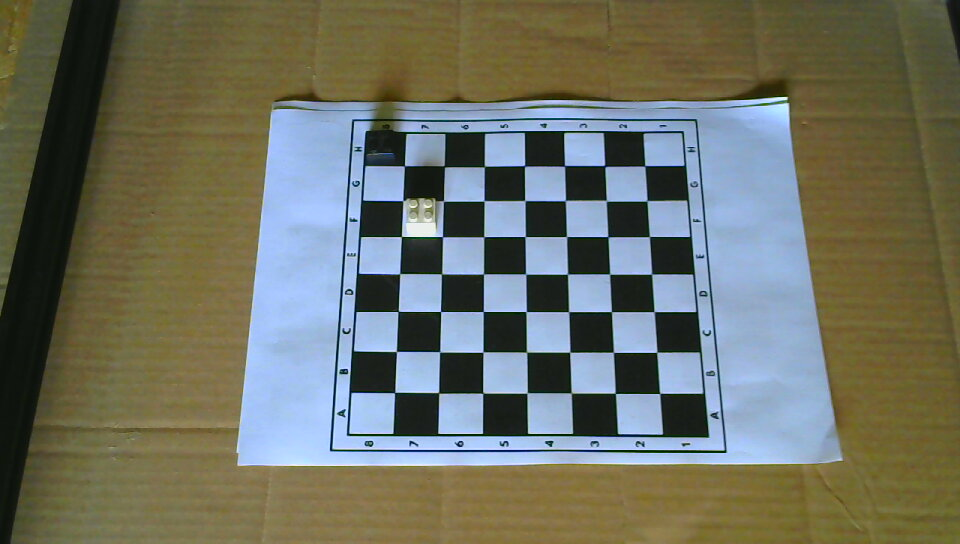bp: (363, 128, 399, 163)
wp: (404, 195, 439, 239)
